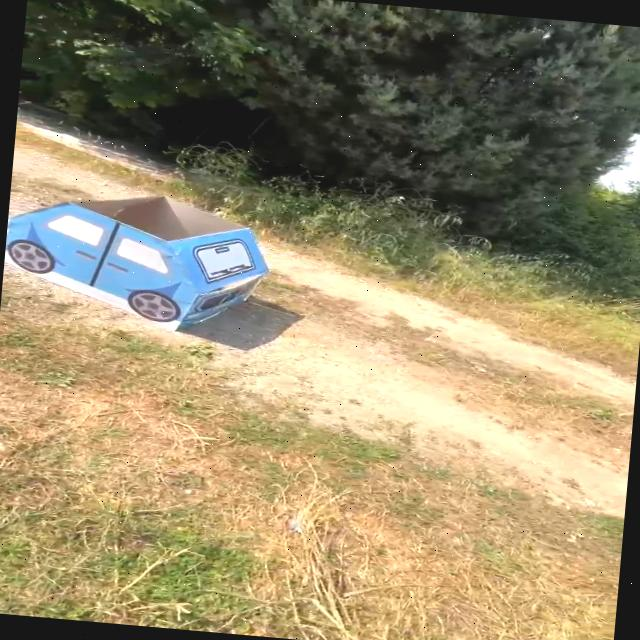blue_car: (0, 169, 313, 366)
